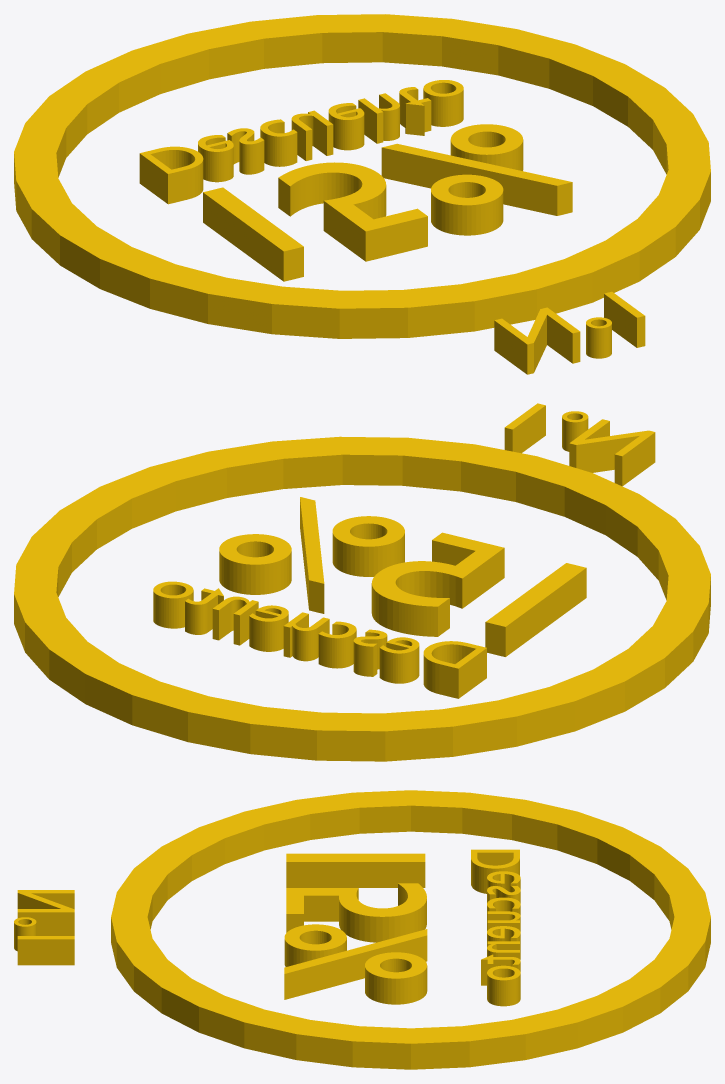
Rendered from circuloquince1.glb.
The picture shows the model from 3 angles, top to bottom: view 1: azimuth 30°, elevation 25°; view 2: azimuth 150°, elevation 25°; view 3: azimuth 270°, elevation 25°; orthographic projection. The views are drawn at different scales.
Visible parts, largest first — view 1: Text.001; view 2: Text.001; view 3: Text.001.
Part boxes in pixels (left/top/right/bottom): Text.001: left=14, top=14, right=710, bottom=374; Text.001: left=14, top=403, right=710, bottom=761; Text.001: left=14, top=790, right=710, bottom=1069.
Size of the model in its own units: 0.5021 by 0.0246 by 0.5834.
